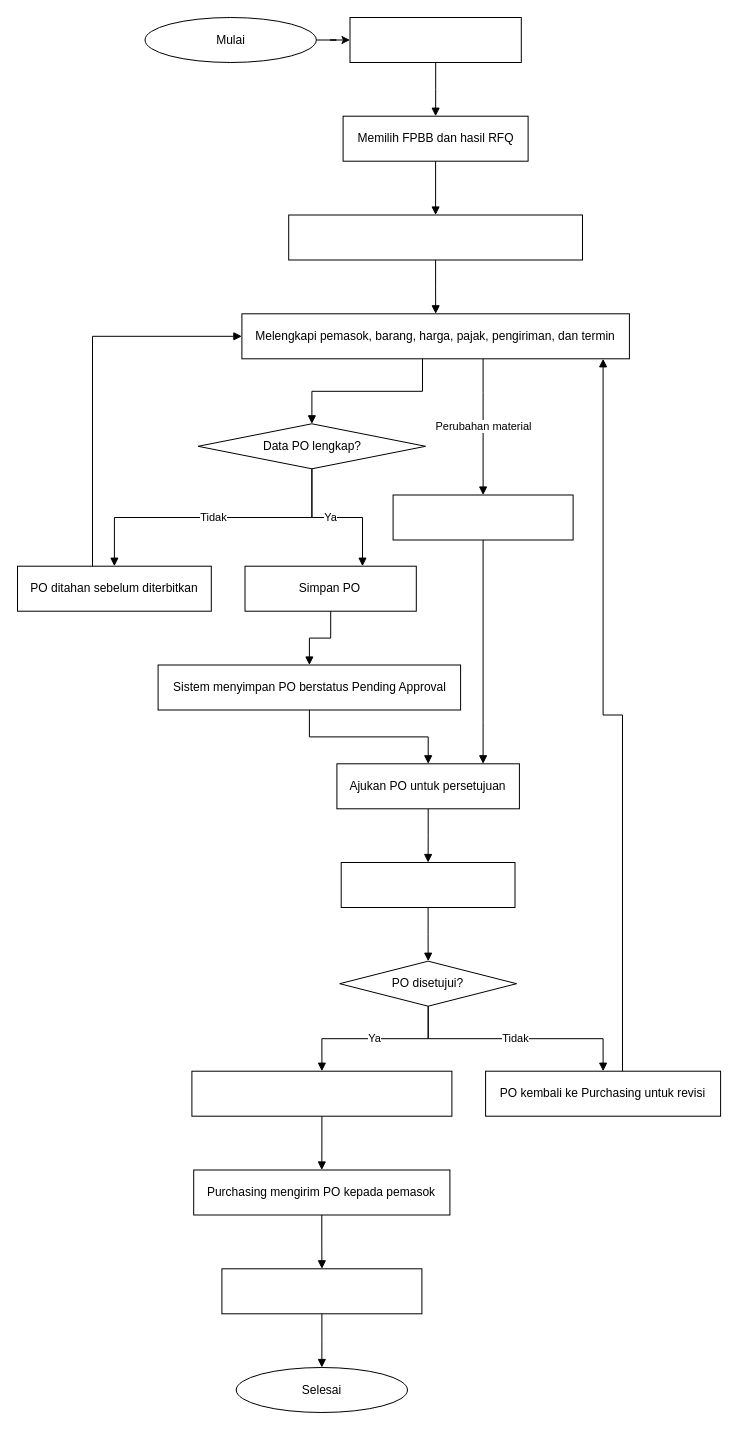
Some shapes in this 739 by 1430 pixel diagram are drawn without their labels. The shapes that lost their labels are listed below. From the top down, each one's centre as x and y in pixels, then its label:
At point (435, 39): "Purchasing login".
At point (435, 237): "Sistem menampilkan form PO dengan nomor unik".
At point (482, 517): "Persetujuan ulang diperlukan".
At point (427, 885): "Proses UC-07 Approval PO".
At point (321, 1093): "Sistem mengubah status menjadi Approved".
At point (321, 1291): "Sistem mencatat pengiriman PO".
